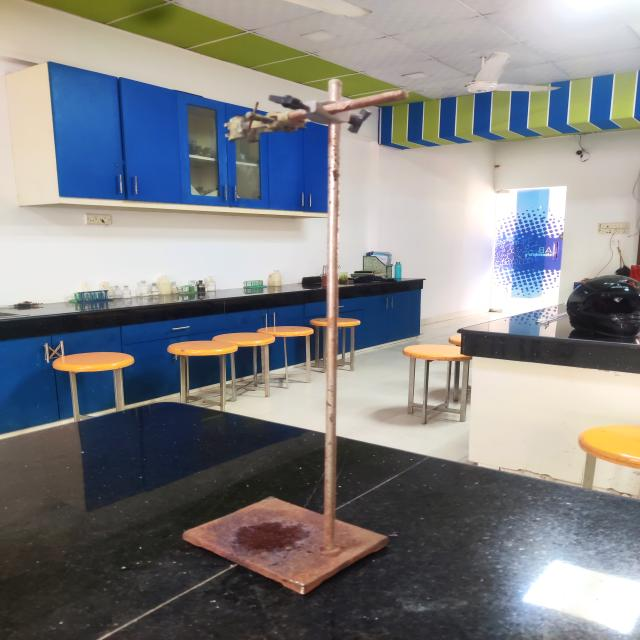Burette_Stands: (162, 58, 440, 610)
